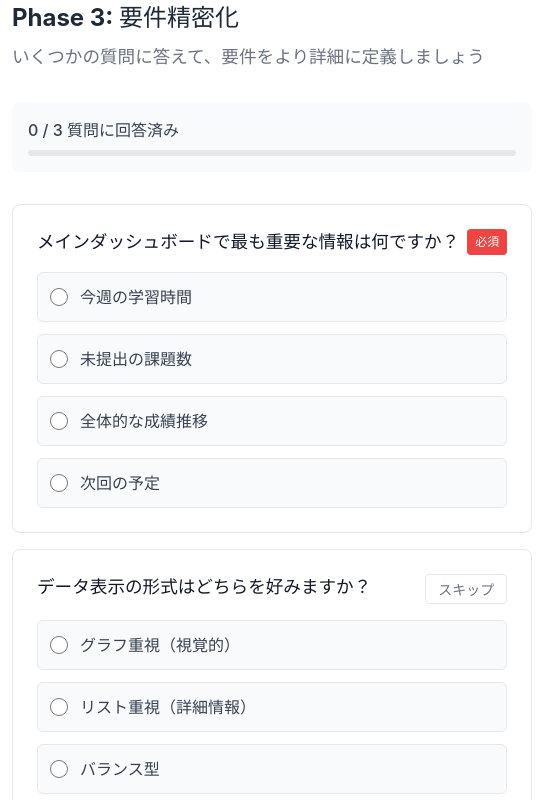
Test: Phase 3: インタラクティブ要件精密化 › 完了と次フェーズへの遷移 › すべての必須質問に回答すると次へボタンが有効になる
Click the radio button labelled "未提出の課題数". click: (59, 359)
box: [50,350,68,368]
(page scrolled)
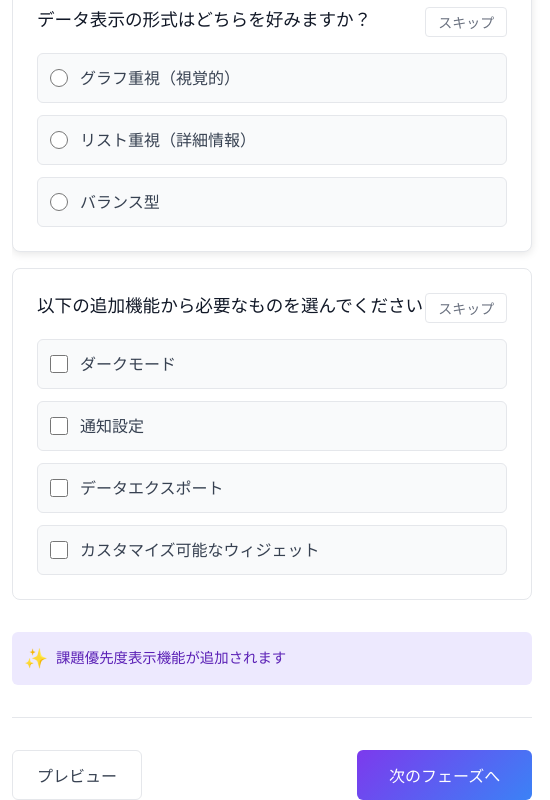
Expected: the button "次のフェーズへ" is enabled, [357,750,532,799]
